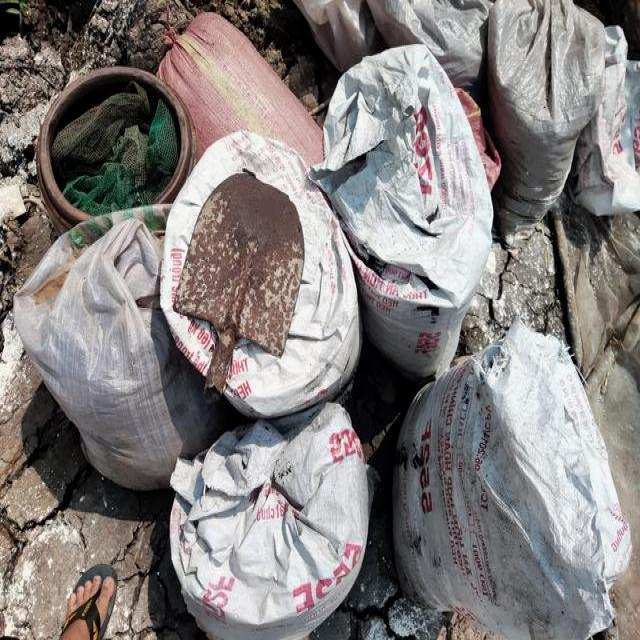gunny_bag: (393, 320, 632, 640), (13, 209, 233, 490), (310, 45, 493, 379), (159, 129, 361, 418), (169, 404, 369, 639), (489, 0, 606, 246), (157, 15, 323, 165)
